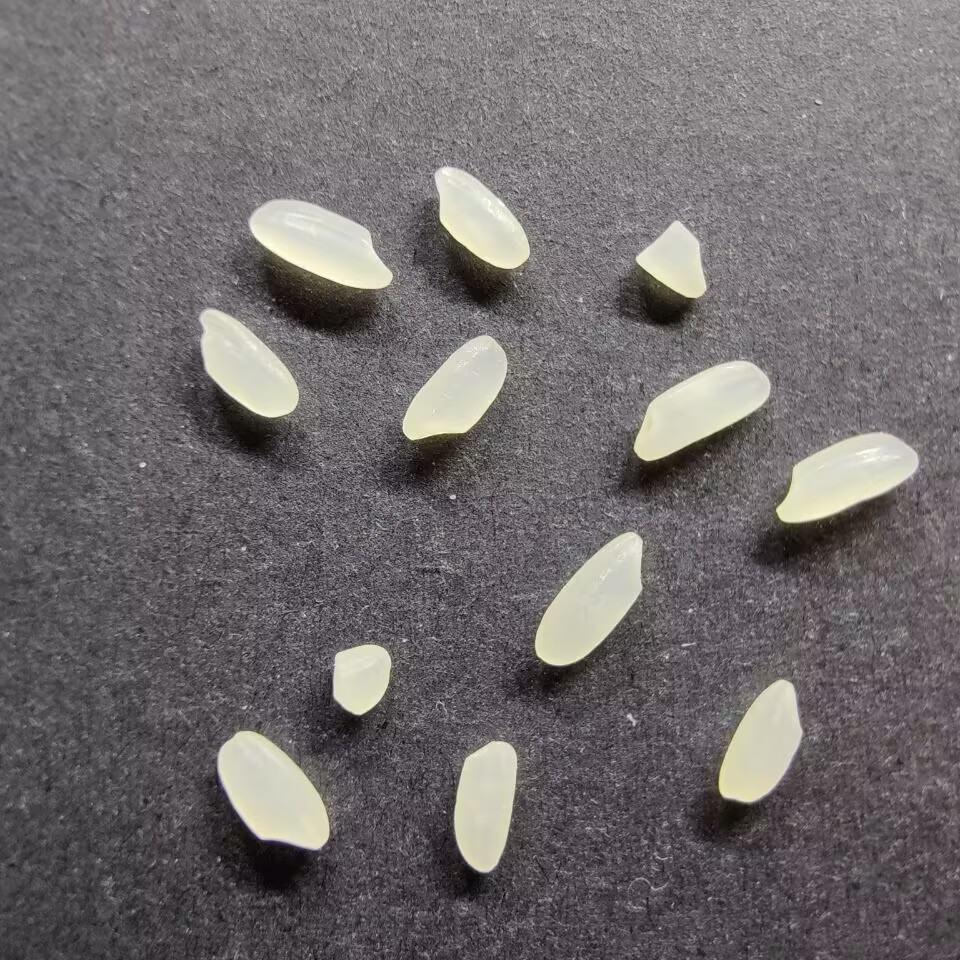broken: (634, 219, 709, 299), (329, 644, 393, 717)
rice: (532, 528, 646, 668), (632, 360, 773, 461), (216, 730, 332, 852), (248, 197, 396, 290), (775, 430, 919, 524), (400, 331, 509, 444), (195, 307, 302, 419), (717, 677, 805, 805), (430, 164, 532, 270), (454, 739, 518, 873)
